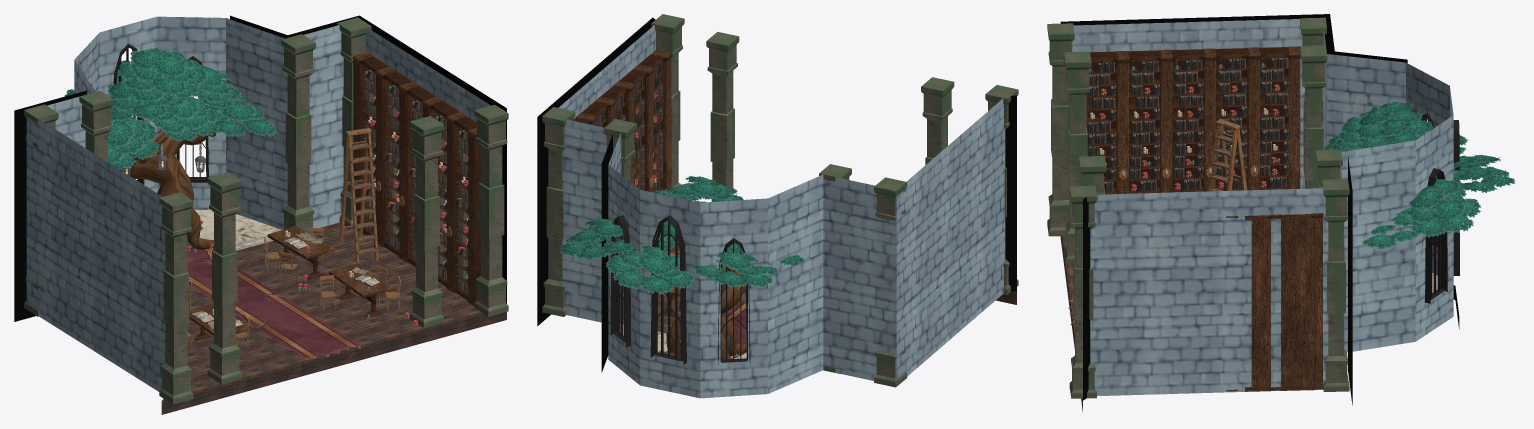
File: old_fantasy-style_library.glb
3 renders of one model, left to right at view 1: azimuth 30°, elevation 25°; view 2: azimuth 150°, elevation 25°; view 3: azimuth 270°, elevation 25°, orthographic. The views are drawn at different scales.
Visible parts, largest first — view 1: Object_39, Object_33, Object_7, Object_11, Object_5, Object_10, Object_35, Object_4, Object_9, Object_29, Object_8, Object_3 (+9 smaller); view 2: Object_39, Object_33, Object_11, Object_9, Object_34, Object_5, Object_4, Object_8, Object_37, Object_15, Object_7, Object_13 (+1 smaller); view 3: Object_39, Object_4, Object_33, Object_5, Object_11, Object_12, Object_9, Object_15, Object_34, Object_3, Object_14, Object_37 (+1 smaller).
Boxes of the visible parts, x1,y1,x2,y2 form: Object_39: (26, 16, 490, 391); Object_33: (24, 17, 508, 404); Object_7: (161, 222, 506, 414); Object_11: (64, 48, 277, 169); Object_5: (352, 52, 480, 306); Object_10: (187, 247, 360, 358); Object_35: (162, 303, 481, 400); Object_4: (361, 57, 476, 299); Object_9: (14, 15, 506, 321); Object_29: (189, 226, 392, 340); Object_8: (116, 123, 216, 249); Object_3: (339, 128, 378, 263); Object_39: (558, 25, 1005, 398); Object_33: (542, 14, 1018, 387); Object_11: (559, 177, 807, 294); Object_9: (537, 17, 1016, 372); Object_34: (610, 215, 750, 364); Object_5: (576, 49, 672, 222); Object_4: (573, 54, 663, 190); Object_8: (659, 250, 746, 359); Object_37: (563, 175, 800, 288); Object_15: (596, 66, 662, 191); Object_7: (657, 242, 1016, 333); Object_13: (615, 64, 661, 190); Object_39: (1072, 19, 1453, 395); Object_4: (1087, 47, 1314, 391); Object_33: (1047, 17, 1349, 398); Object_5: (1086, 46, 1323, 391); Object_11: (1323, 103, 1515, 250); Object_12: (1087, 58, 1288, 193); Object_9: (1060, 14, 1459, 405); Object_15: (1087, 58, 1288, 194); Object_34: (1421, 113, 1459, 303); Object_3: (1208, 119, 1247, 191); Object_14: (1088, 58, 1288, 193); Object_37: (1328, 101, 1510, 244).
Size of the model in its own units: 1296 by 739 by 1397.
Materials: 31 (30 with a texture image).
